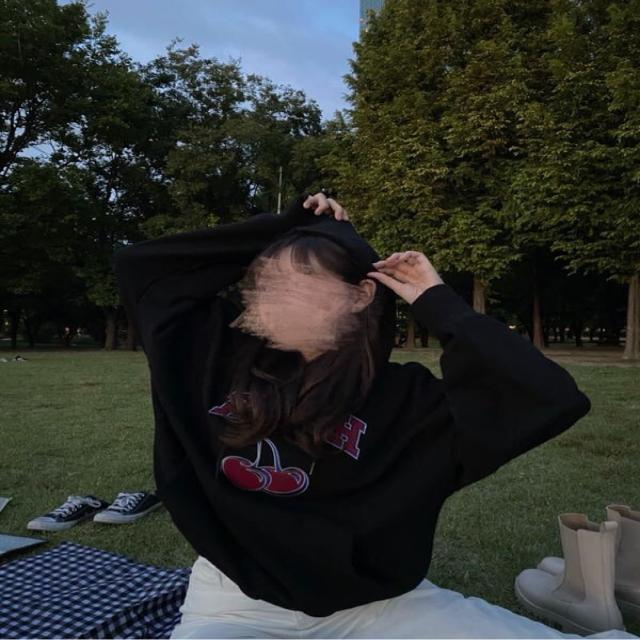cottonpants: (168, 549, 640, 640)
hoodies: (114, 214, 580, 618)
